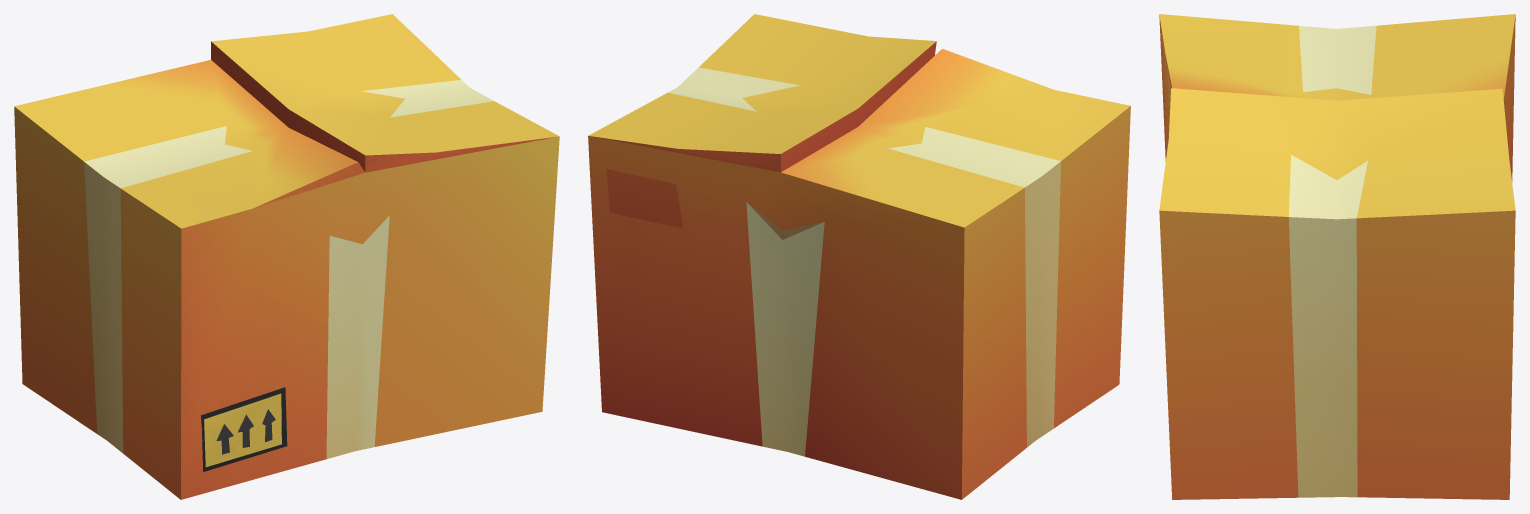
File: cardboard_b.fbx
The picture shows the model from 3 angles, left to right: view 1: azimuth 30°, elevation 25°; view 2: azimuth 150°, elevation 25°; view 3: azimuth 270°, elevation 25°; orthographic projection. The views are drawn at different scales.
Parts seen in each view (by area): view 1: cardboard3; view 2: cardboard3; view 3: cardboard3.
Boxes of the visible parts, x1,y1,x2,y2 form: cardboard3: (14, 14, 559, 499); cardboard3: (588, 14, 1130, 499); cardboard3: (1159, 14, 1515, 499).
Size of the model in its own units: 65.1 by 49.31 by 49.84.
